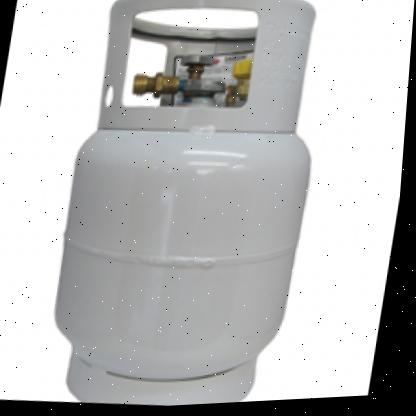gas-tank: (24, 0, 351, 413)
